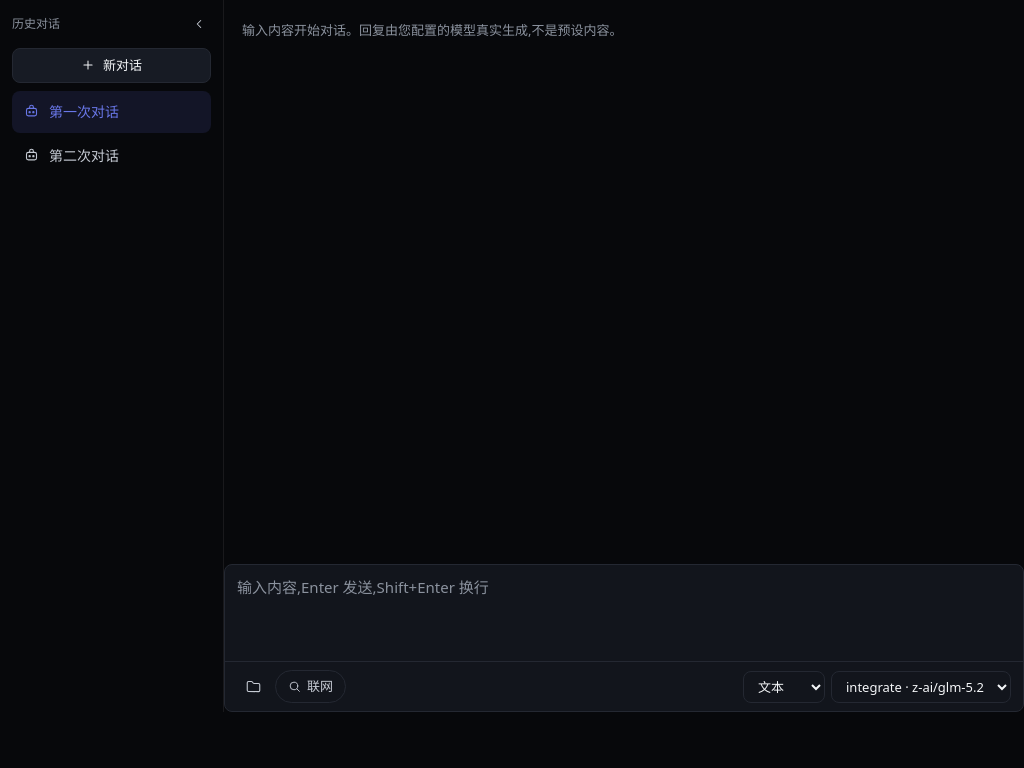
Test case: 助手页渲染 › 打了字,发送按钮就出现 —— 这是上一条的正向对照
In the text box named "对话输入": x=624, y=613 [237, 575, 1011, 651], type "你好"
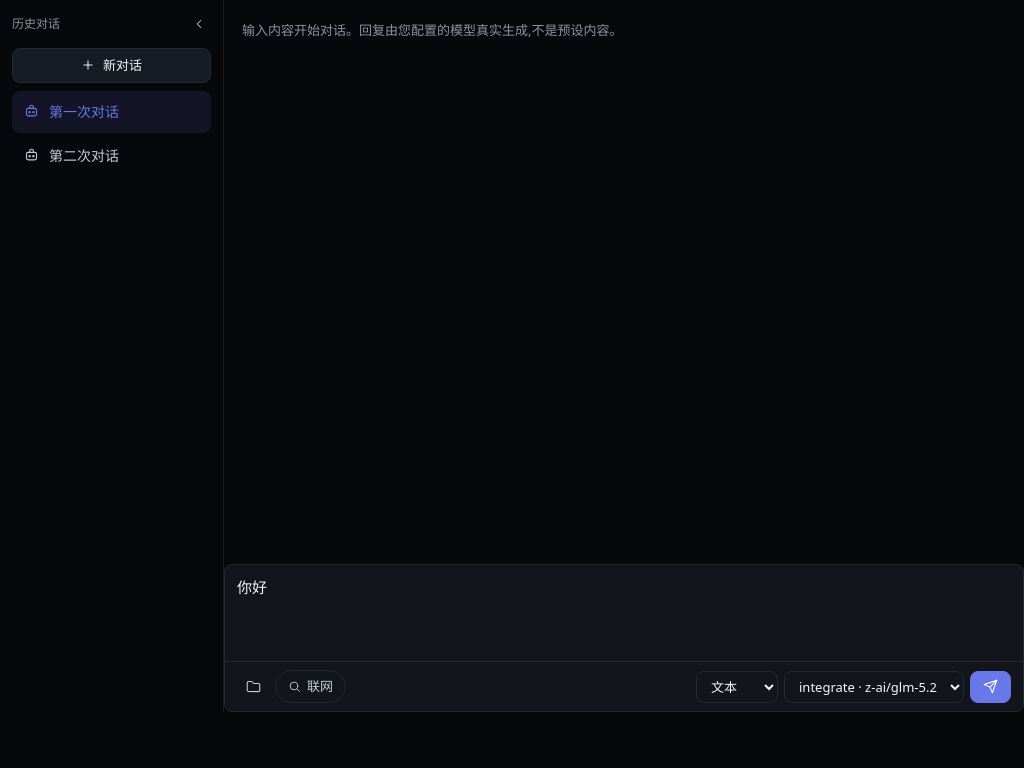
expect the button named "发送" is shown: met, box [970, 671, 1011, 703]
